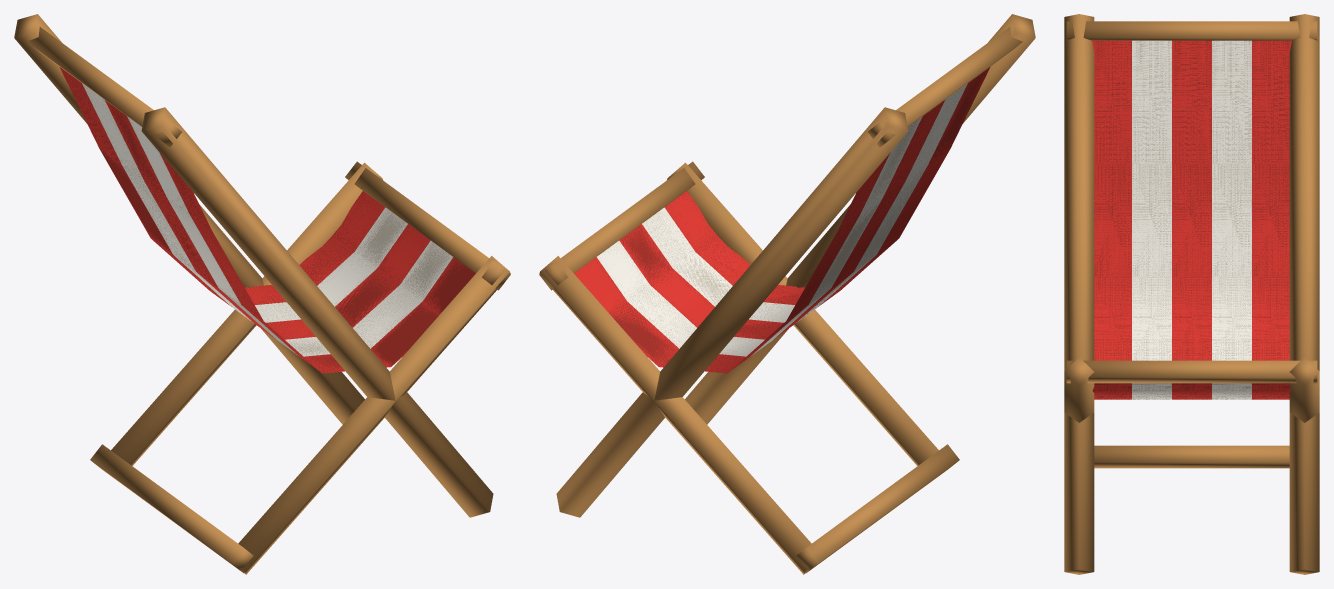
The model's file is moreA-beachChair.glb.
The picture shows the model from 3 angles, left to right: view 1: azimuth 30°, elevation 25°; view 2: azimuth 150°, elevation 25°; view 3: azimuth 270°, elevation 25°; orthographic projection. The views are drawn at different scales.
Visible parts, largest first — view 1: moreA.beachChair; view 2: moreA.beachChair; view 3: moreA.beachChair.
Boxes of the visible parts, x1,y1,x2,y2 form: moreA.beachChair: (14, 14, 510, 574); moreA.beachChair: (539, 14, 1035, 574); moreA.beachChair: (1064, 14, 1319, 574).
Size of the model in its own units: 1.19 by 1.51 by 0.8077.
Materials: 5 (5 with a texture image).
